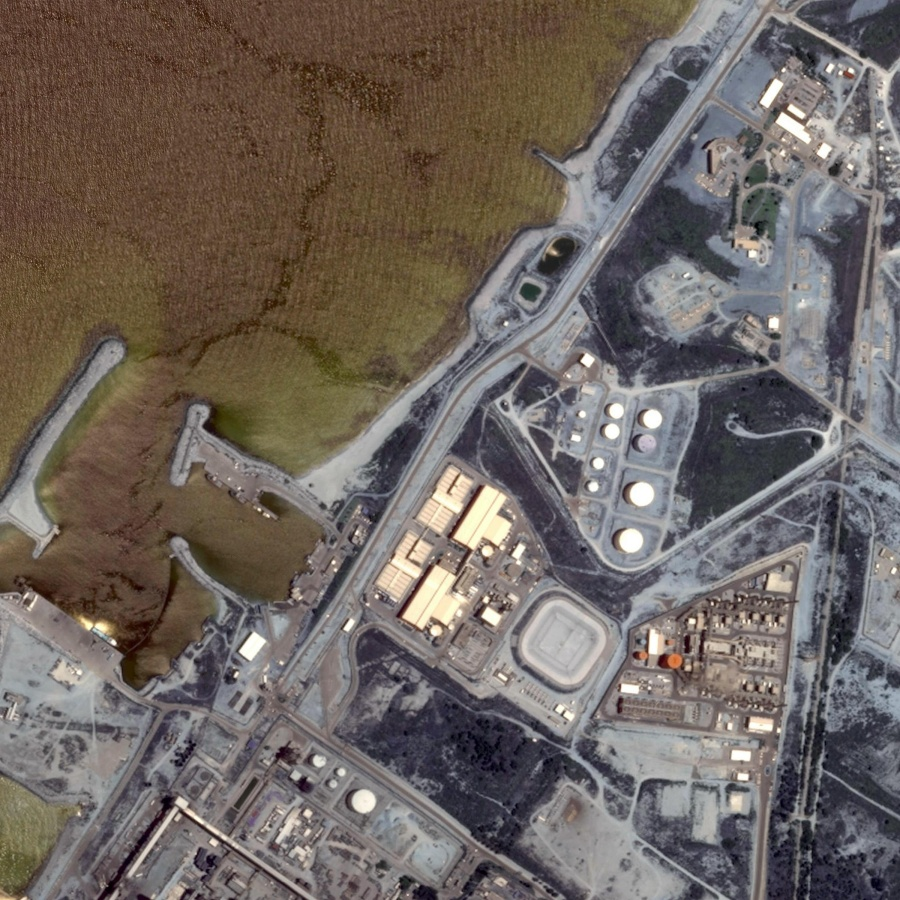PowerPlant: (502, 352, 735, 566)
